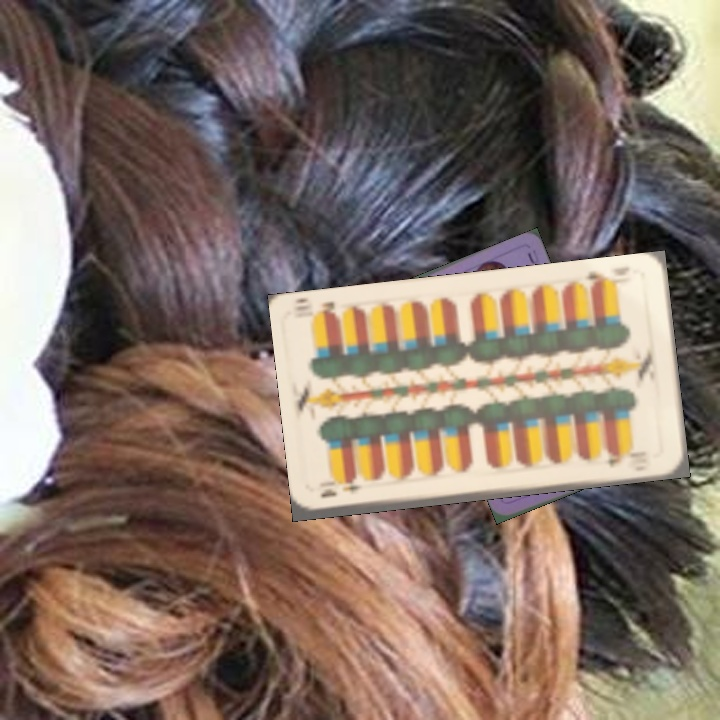E10: (316, 481, 365, 500), (582, 267, 613, 293)
